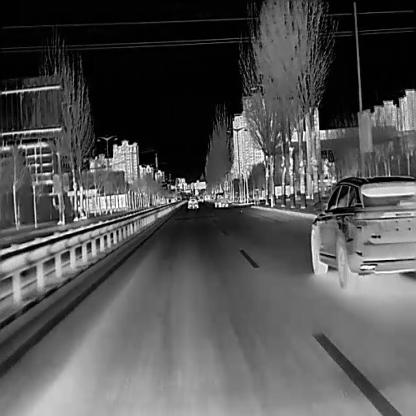car: (309, 174, 415, 288), (186, 195, 198, 208)
truck: (214, 191, 227, 206)
